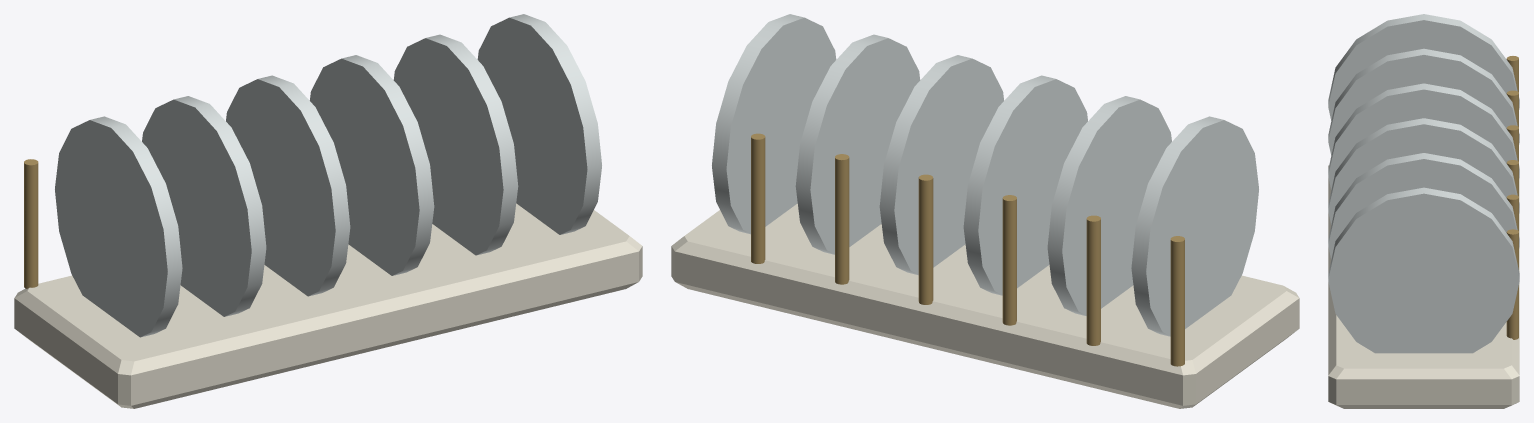
File: plate_rack.glb
The picture shows the model from 3 angles, left to right: view 1: azimuth 30°, elevation 25°; view 2: azimuth 150°, elevation 25°; view 3: azimuth 270°, elevation 25°; orthographic projection. The views are drawn at different scales.
Visible parts, largest first — view 1: _MeshInstance3D_1333, _MeshInstance3D_1334, _MeshInstance3D_1342, _MeshInstance3D_1336, _MeshInstance3D_1338, _MeshInstance3D_1340, _MeshInstance3D_1344, _MeshInstance3D_1335; view 2: _MeshInstance3D_1333, _MeshInstance3D_1334, _MeshInstance3D_1336, _MeshInstance3D_1340, _MeshInstance3D_1342, _MeshInstance3D_1338, _MeshInstance3D_1344, _MeshInstance3D_1341, _MeshInstance3D_1335, _MeshInstance3D_1337, _MeshInstance3D_1339, _MeshInstance3D_1343 (+1 smaller); view 3: _MeshInstance3D_1344, _MeshInstance3D_1333, _MeshInstance3D_1338, _MeshInstance3D_1340, _MeshInstance3D_1336, _MeshInstance3D_1334, _MeshInstance3D_1342, _MeshInstance3D_1345, _MeshInstance3D_1339, _MeshInstance3D_1337, _MeshInstance3D_1335, _MeshInstance3D_1341 (+1 smaller).
Part boxes in pixels (left/top/right/bottom): _MeshInstance3D_1333: left=14, top=203, right=642, bottom=408; _MeshInstance3D_1334: left=55, top=116, right=182, bottom=337; _MeshInstance3D_1342: left=393, top=34, right=518, bottom=255; _MeshInstance3D_1336: left=142, top=96, right=266, bottom=316; _MeshInstance3D_1338: left=226, top=75, right=350, bottom=296; _MeshInstance3D_1340: left=309, top=55, right=434, bottom=275; _MeshInstance3D_1344: left=477, top=14, right=601, bottom=234; _MeshInstance3D_1335: left=24, top=159, right=38, bottom=288; _MeshInstance3D_1333: left=671, top=203, right=1299, bottom=408; _MeshInstance3D_1334: left=1131, top=116, right=1258, bottom=336; _MeshInstance3D_1336: left=1047, top=96, right=1171, bottom=315; _MeshInstance3D_1340: left=879, top=55, right=1004, bottom=275; _MeshInstance3D_1342: left=795, top=34, right=920, bottom=254; _MeshInstance3D_1338: left=963, top=75, right=1087, bottom=295; _MeshInstance3D_1344: left=712, top=14, right=836, bottom=234; _MeshInstance3D_1341: left=918, top=174, right=933, bottom=304; _MeshInstance3D_1335: left=1170, top=236, right=1184, bottom=366; _MeshInstance3D_1337: left=1086, top=215, right=1100, bottom=345; _MeshInstance3D_1339: left=1002, top=195, right=1016, bottom=325; _MeshInstance3D_1343: left=835, top=154, right=849, bottom=284; _MeshInstance3D_1344: left=1328, top=187, right=1519, bottom=353; _MeshInstance3D_1333: left=1328, top=165, right=1519, bottom=408; _MeshInstance3D_1338: left=1328, top=83, right=1519, bottom=189; _MeshInstance3D_1340: left=1328, top=118, right=1519, bottom=224; _MeshInstance3D_1336: left=1328, top=48, right=1519, bottom=154; _MeshInstance3D_1334: left=1328, top=14, right=1519, bottom=120; _MeshInstance3D_1342: left=1328, top=153, right=1519, bottom=259; _MeshInstance3D_1345: left=1506, top=229, right=1518, bottom=339; _MeshInstance3D_1339: left=1506, top=125, right=1518, bottom=161; _MeshInstance3D_1337: left=1506, top=90, right=1518, bottom=126; _MeshInstance3D_1335: left=1506, top=56, right=1518, bottom=91; _MeshInstance3D_1341: left=1506, top=160, right=1518, bottom=196.
Size of the model in its own units: 0.75 by 0.3225 by 0.28.
